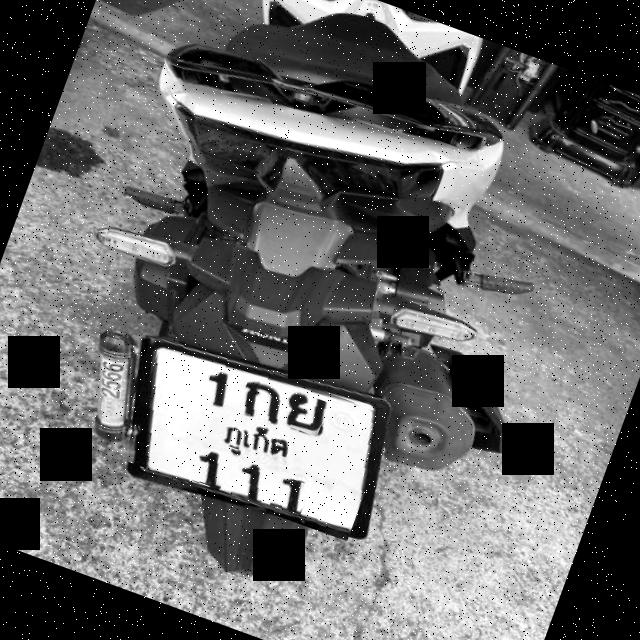letters: (237, 376, 290, 426), (278, 389, 331, 438), (228, 456, 274, 504), (200, 366, 242, 414), (190, 445, 232, 491), (270, 474, 310, 516)
license-plate: (147, 350, 372, 529)
province: (205, 410, 298, 470)
